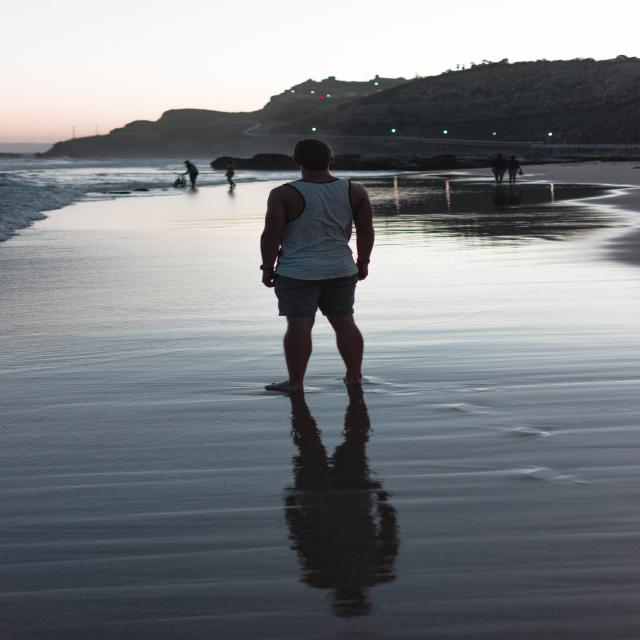standing: (249, 140, 384, 402)
